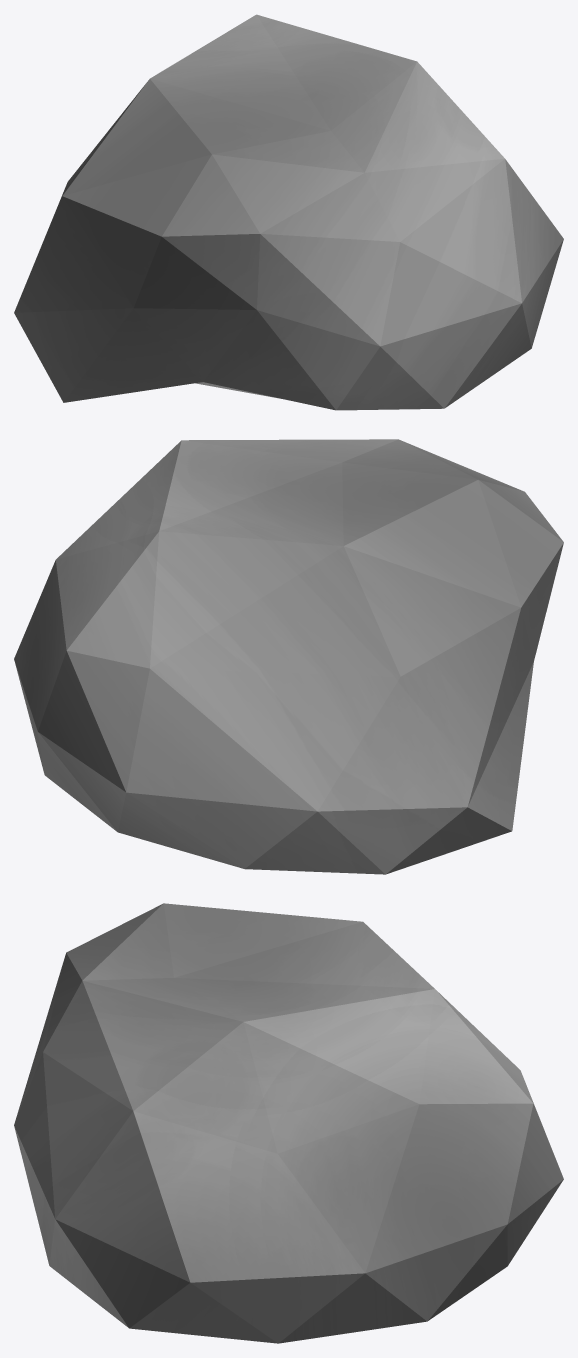
The model's file is rock2.glb.
3 renders of one model, top to bottom at view 1: azimuth 30°, elevation 25°; view 2: azimuth 150°, elevation 25°; view 3: azimuth 270°, elevation 25°, orthographic. The views are drawn at different scales.
Visible parts, largest first — view 1: Caillou3; view 2: Caillou3; view 3: Caillou3.
Boxes of the visible parts, <box> form: Caillou3: <box>14,14,563,410</box>; Caillou3: <box>14,439,563,874</box>; Caillou3: <box>14,903,563,1343</box>.
Bounding box in the file's own units: 0.655 × 0.3764 × 0.6449.
1 material, 1 textured.
